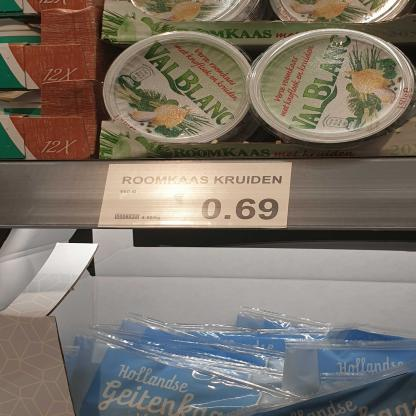prtg: (98, 163, 294, 229)
